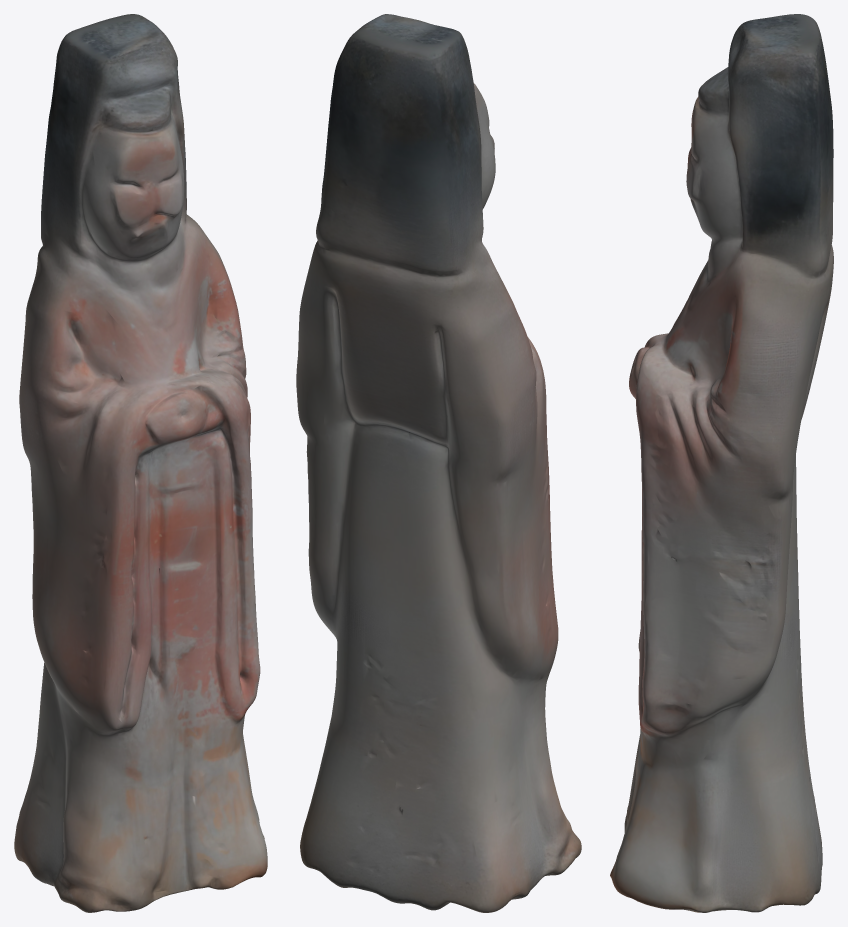
3 views of the same model, side by side, from view 1: azimuth 30°, elevation 25°; view 2: azimuth 150°, elevation 25°; view 3: azimuth 270°, elevation 25° (orthographic). The views are drawn at different scales.
Visible parts, largest first — view 1: node_0; view 2: node_0; view 3: node_0.
Boxes of the visible parts, x1,y1,x2,y2 form: node_0: (14,14,267,912); node_0: (296,14,581,912); node_0: (610,14,833,912).
Bounding box in the file's own units: 0.3174 × 1.16 × 0.2808.
Materials: 1 (1 with a texture image).
